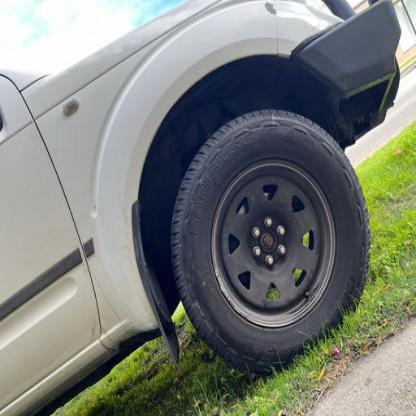Tire: (168, 107, 370, 374)
